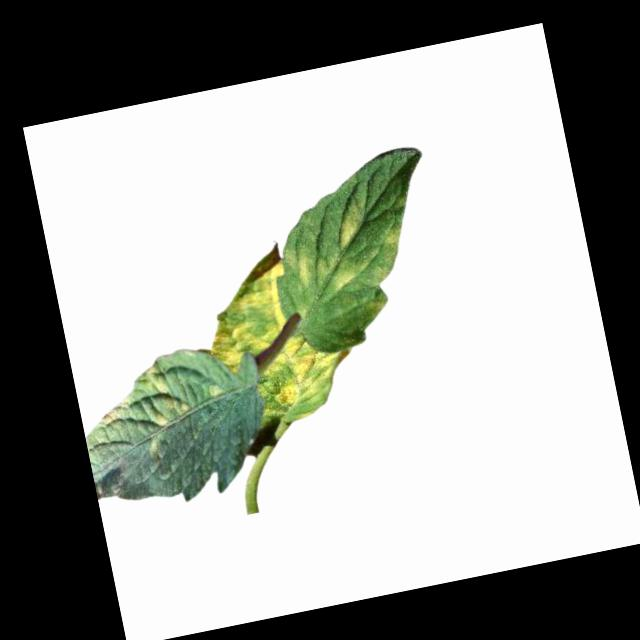Leaf_Mold: (193, 242, 304, 379), (90, 357, 199, 463), (243, 327, 358, 427), (281, 236, 369, 301), (330, 201, 367, 249), (370, 221, 406, 253)
